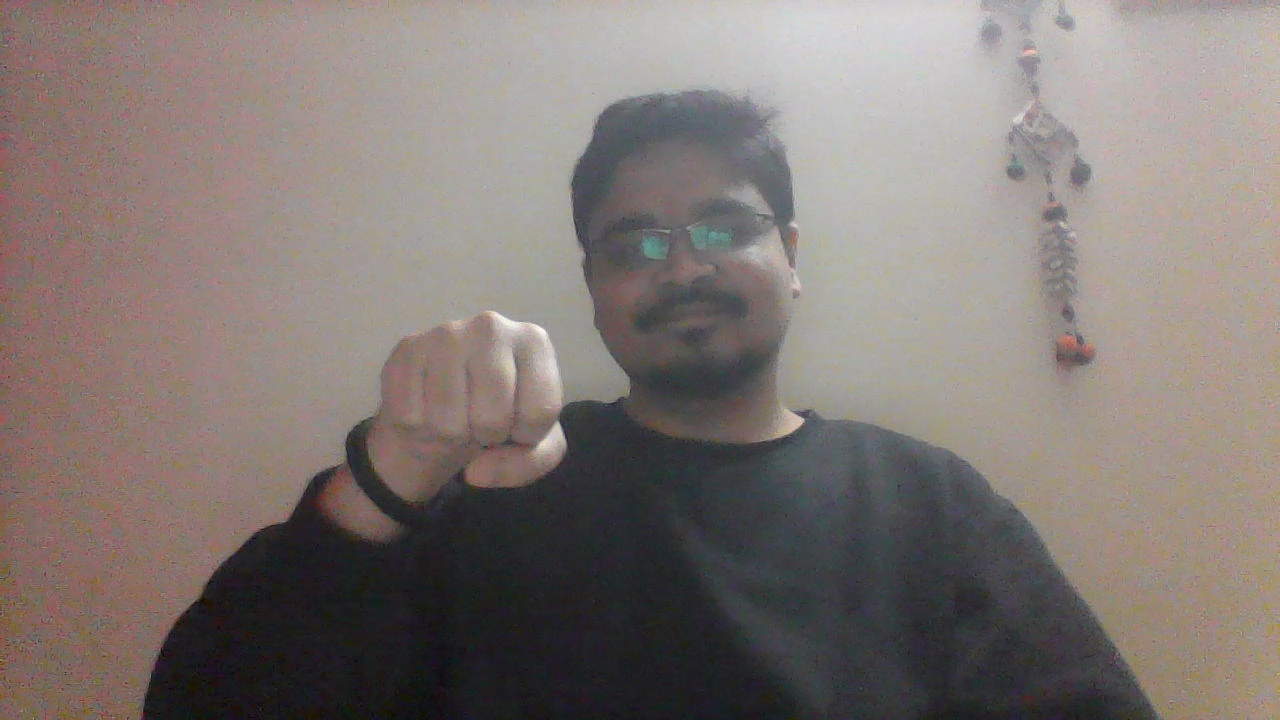Yes: (375, 307, 571, 498)
